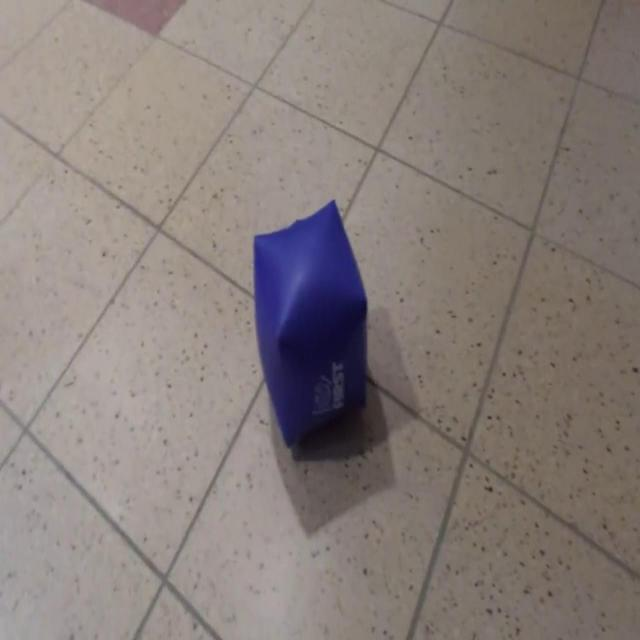frc_cube: (255, 200, 369, 439)
